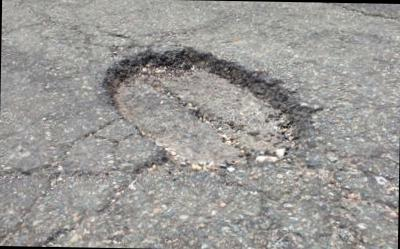pothole: (101, 40, 320, 171)
